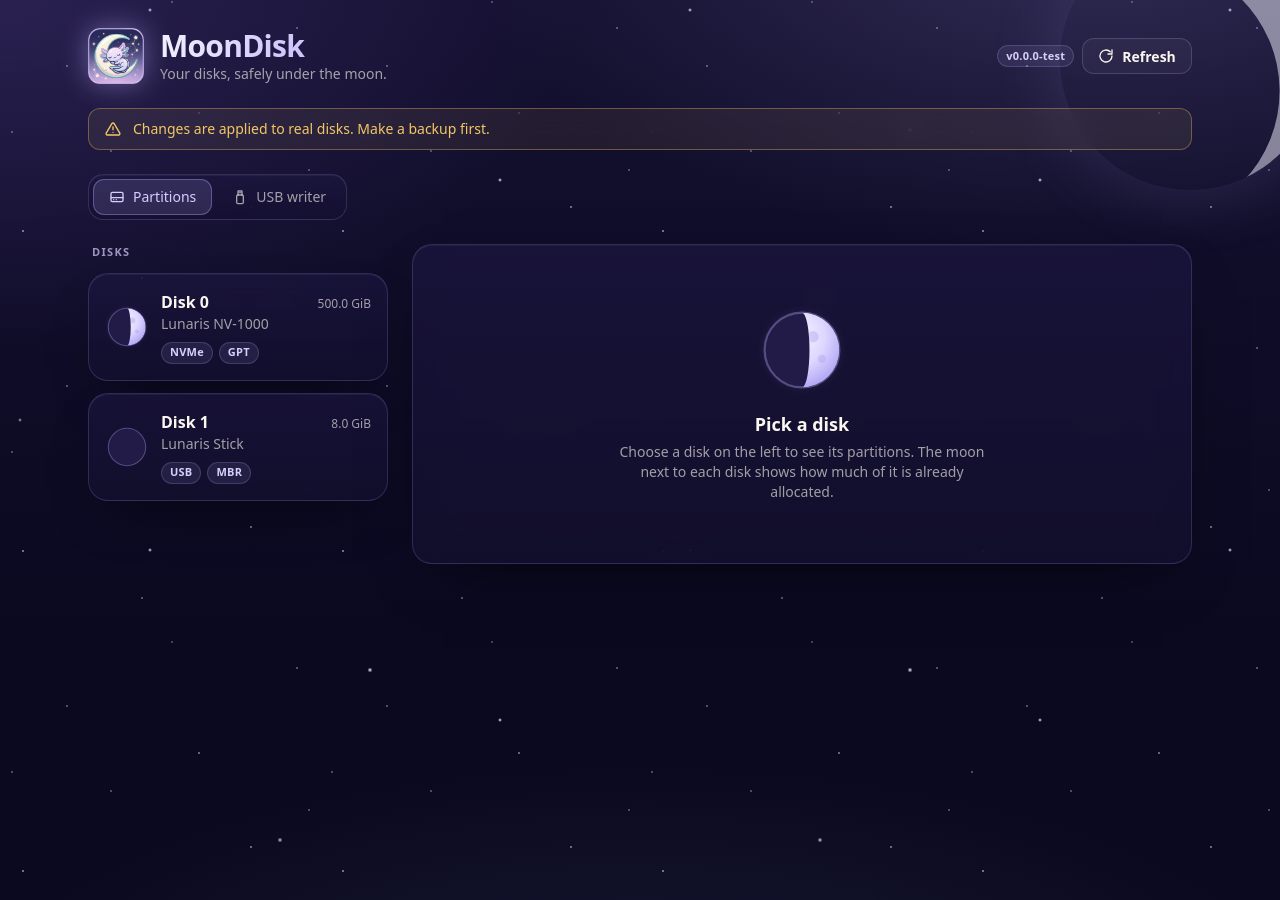
Test: App › restores a USB drive to one empty partition
Expected: the text "Changes are applied to real disks. Make a backup first." is shown, [133,119,490,138]
Click the tab "USB writer" at [279, 197], box [216,179,342,215]
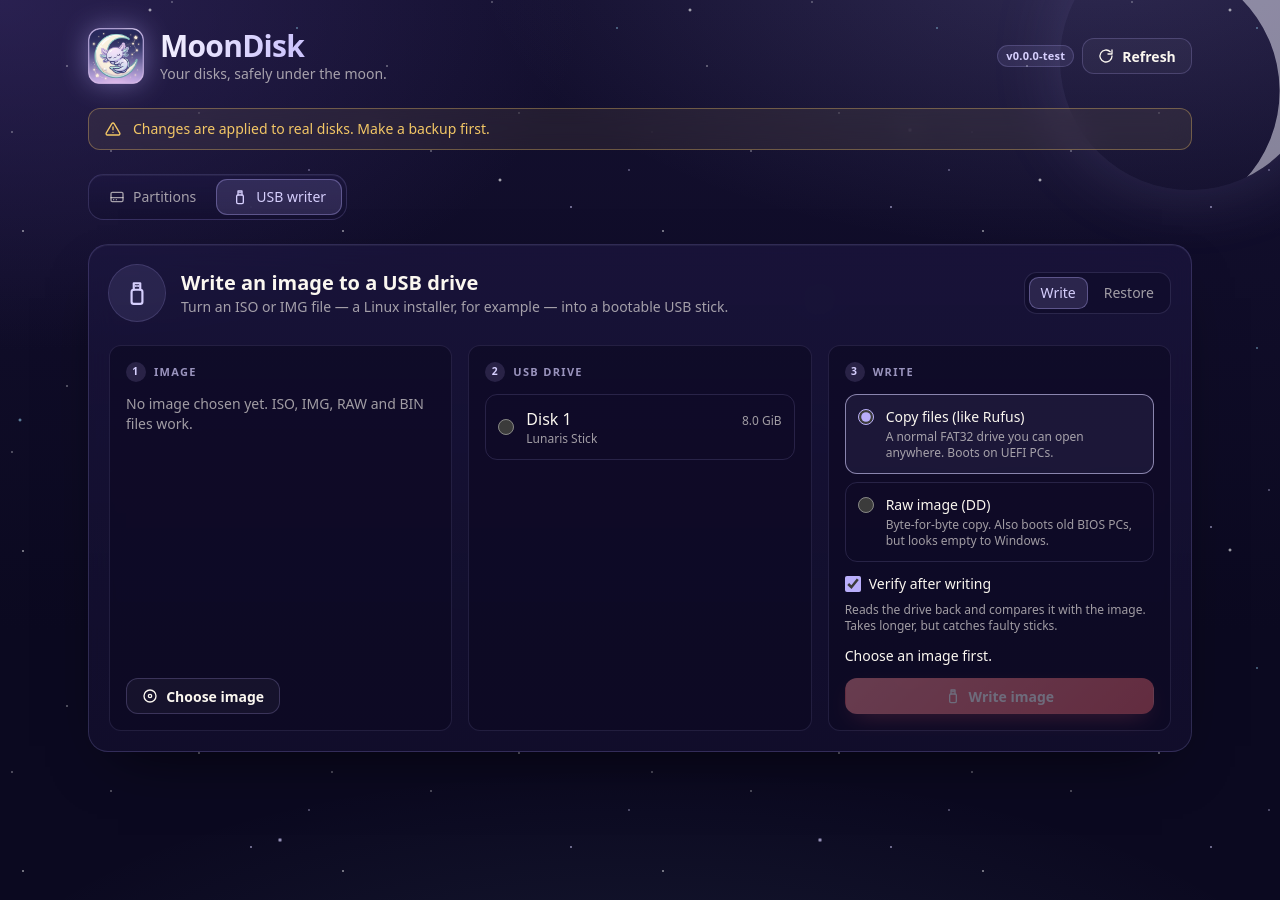
Click the button "Restore" at [1129, 293], box [1092,277,1166,309]
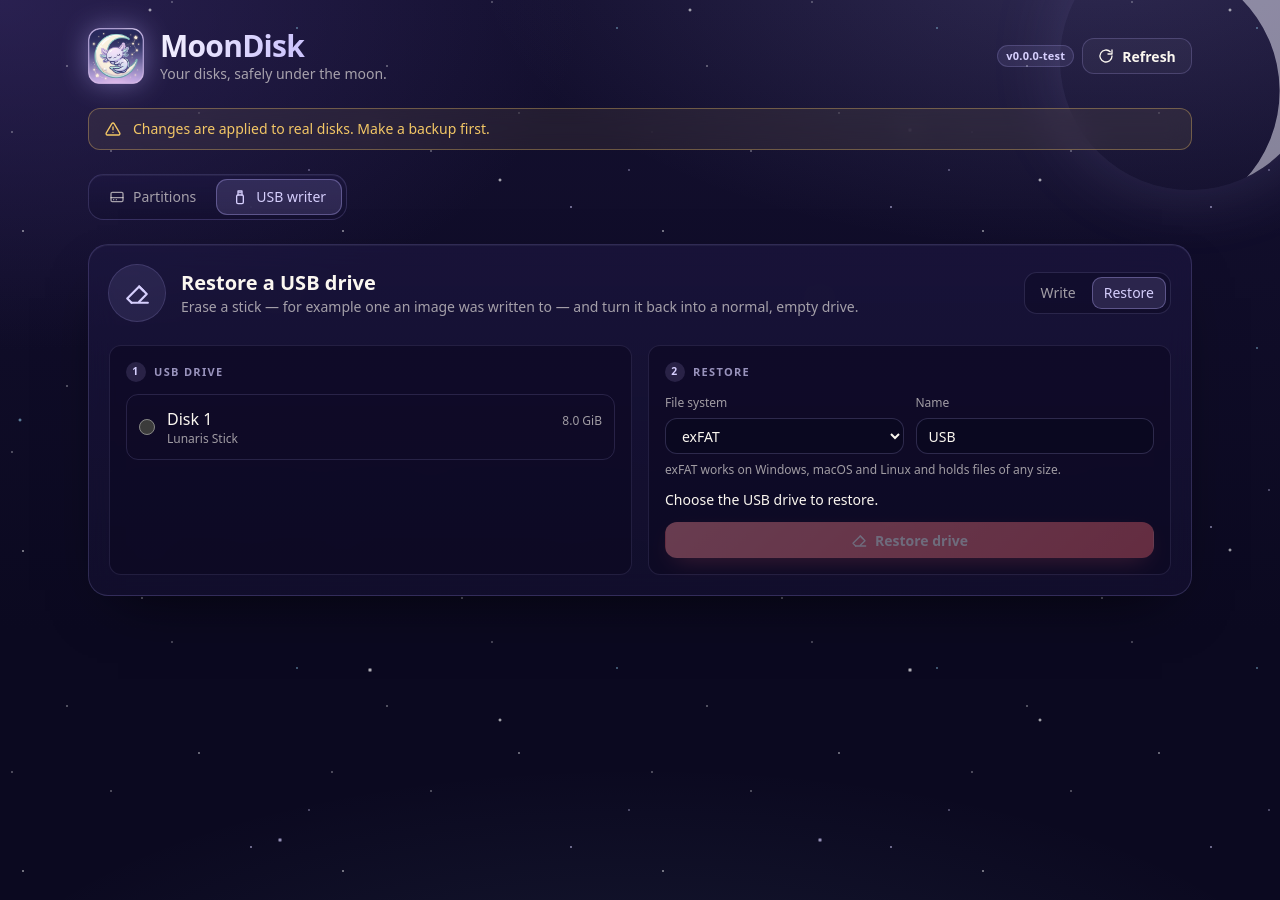
Expected: the button "Disk 0" is not shown
Expected: the heading "Restore a USB drive" is shown, [181,269,376,296]
Expected: the button "Restore drive" is disabled, [665,522,1154,558]
Click the radio button labelled "Disk 1 8.0 GiB Lunaris Stick" at [147, 427], box [139,419,155,435]
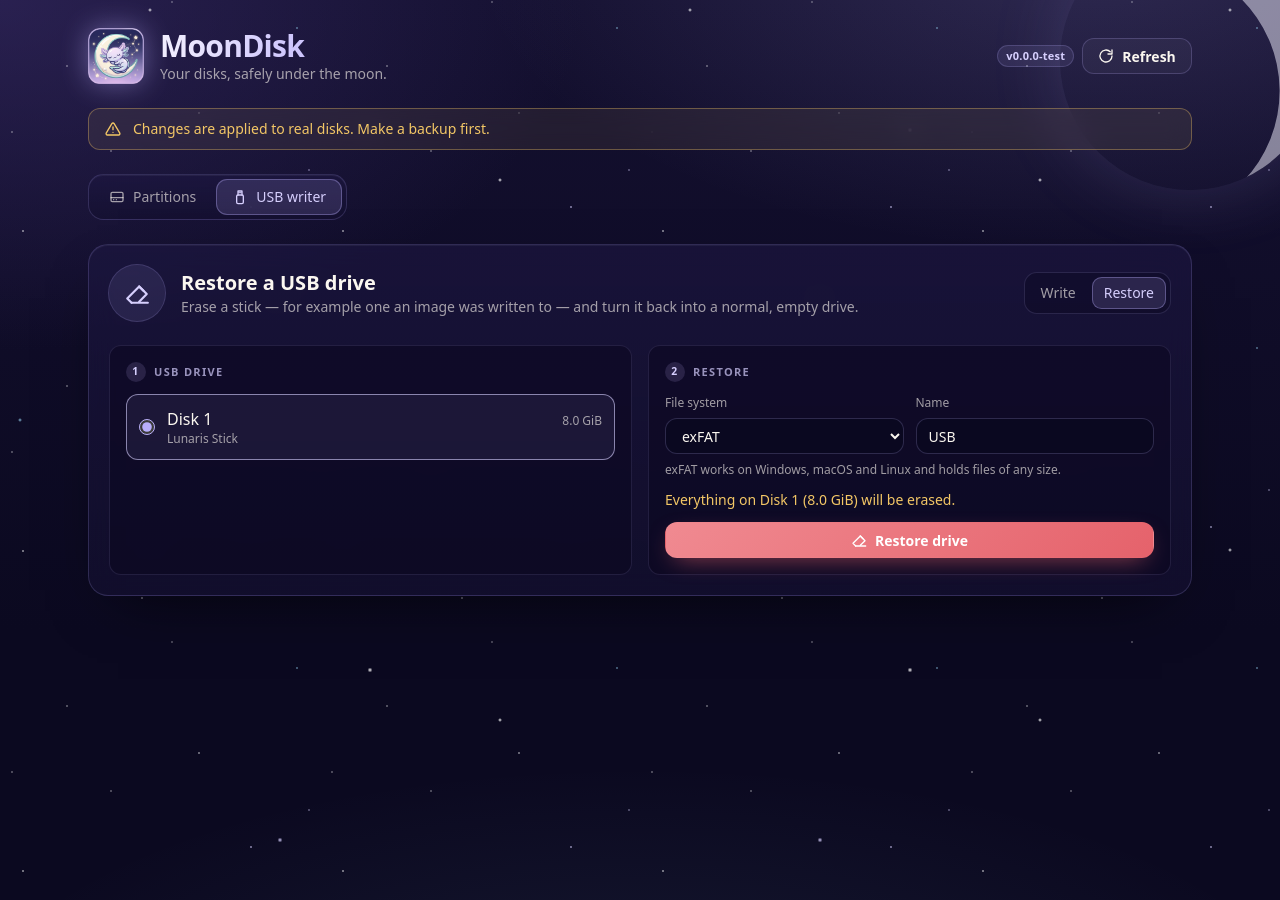
Click the button "Restore drive" at [910, 540], box [665,522,1154,558]
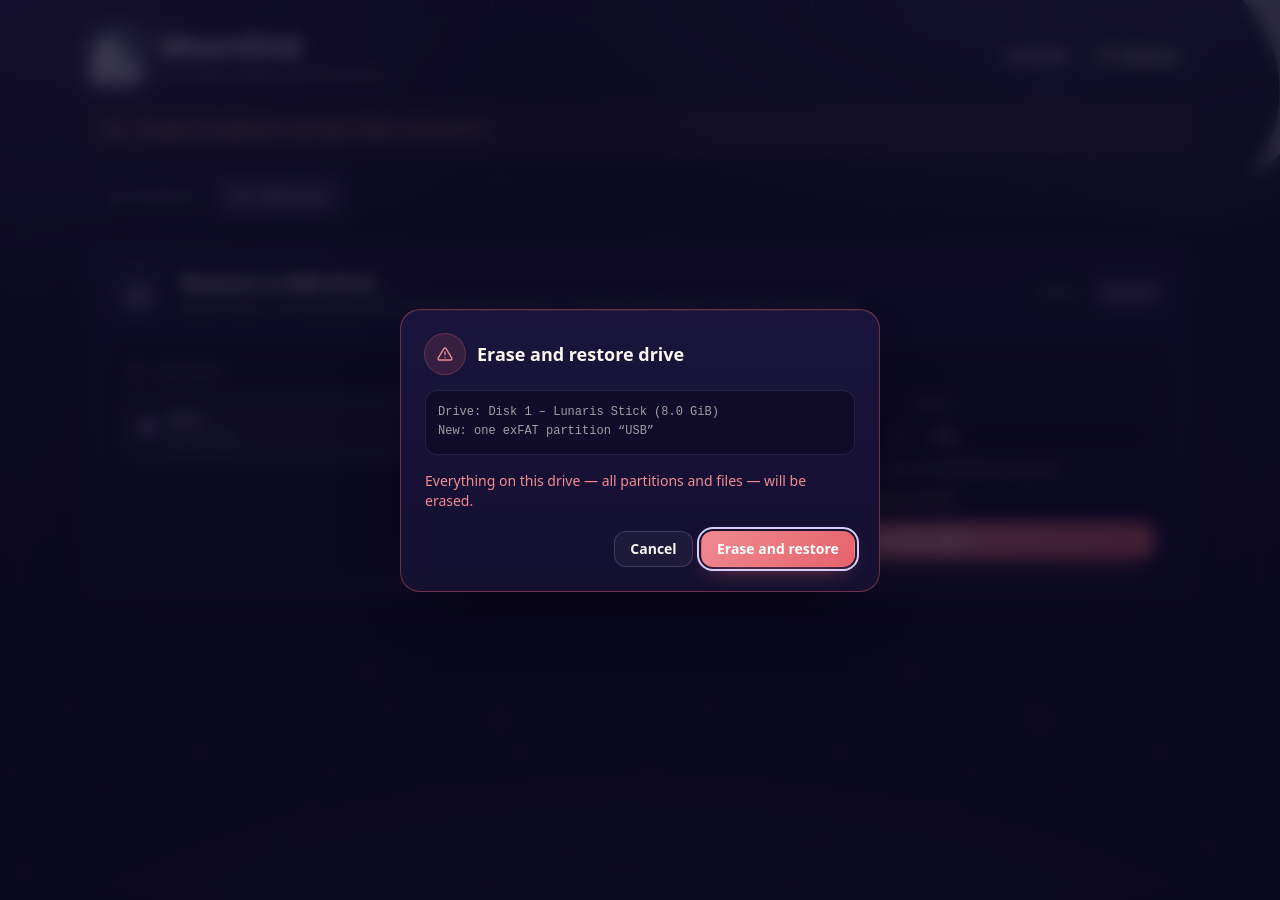
Click the button "Erase and restore" at [778, 548], box [701,530,855,566]
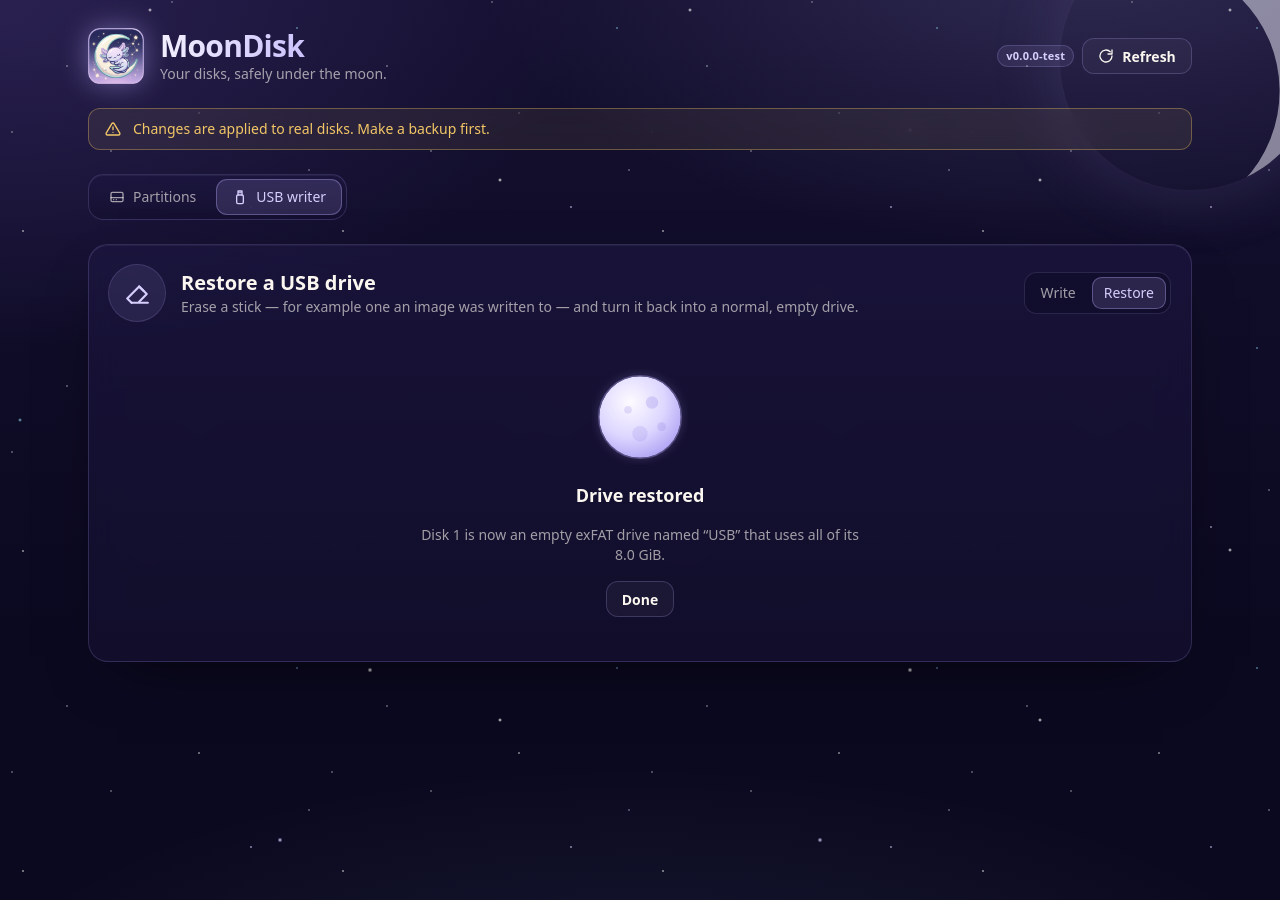
Expected: the heading "Drive restored" is shown, [576,481,704,509]
